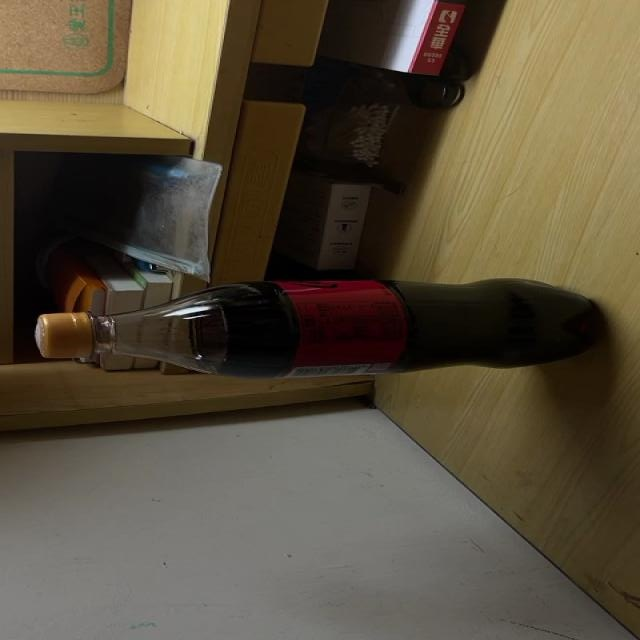Coca-Cola: (34, 278, 604, 377)
